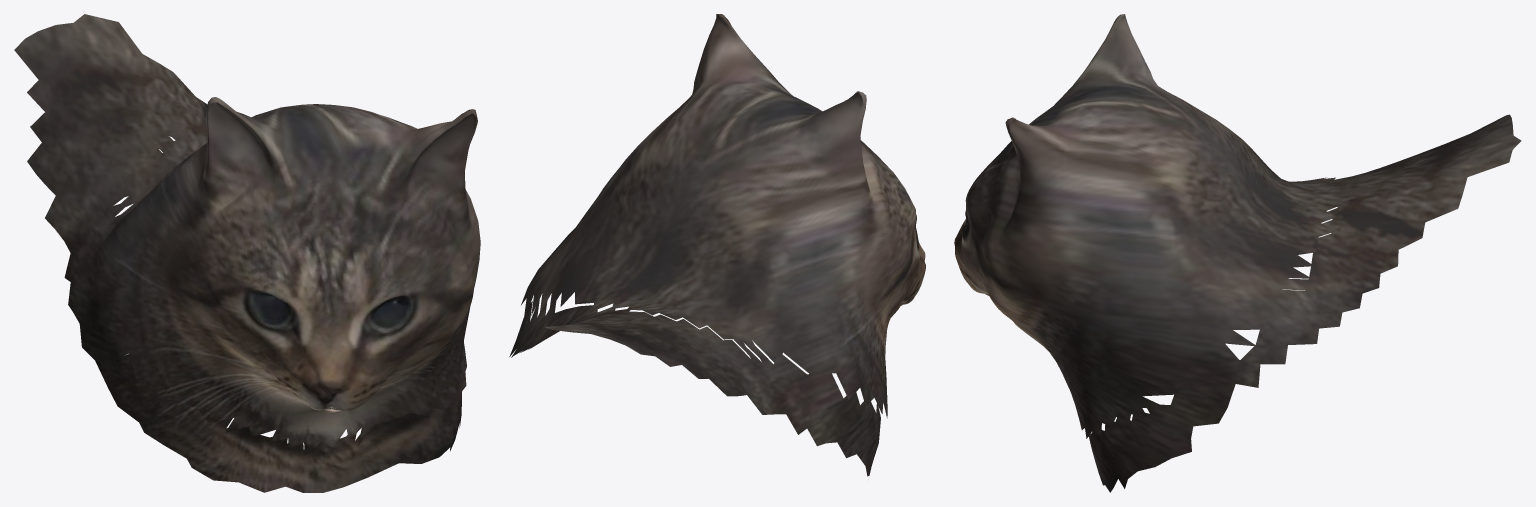
File: oiia_cat_head.glb
3 renders of one model, left to right at view 1: azimuth 30°, elevation 25°; view 2: azimuth 150°, elevation 25°; view 3: azimuth 270°, elevation 25°, orthographic. The views are drawn at different scales.
Parts seen in each view (by area): view 1: OiiaCat_head; view 2: OiiaCat_head; view 3: OiiaCat_head.
Boxes of the visible parts, bbox=[...] form: OiiaCat_head: bbox=[14, 14, 480, 492]; OiiaCat_head: bbox=[509, 14, 925, 476]; OiiaCat_head: bbox=[954, 14, 1521, 492].
Size of the model in its own units: 20.99 by 24.63 by 33.23.
Materials: 1 (1 with a texture image).
